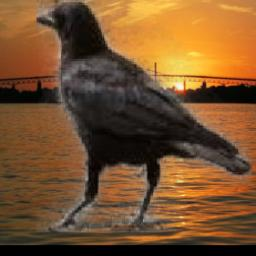Crow: (37, 0, 252, 232)
